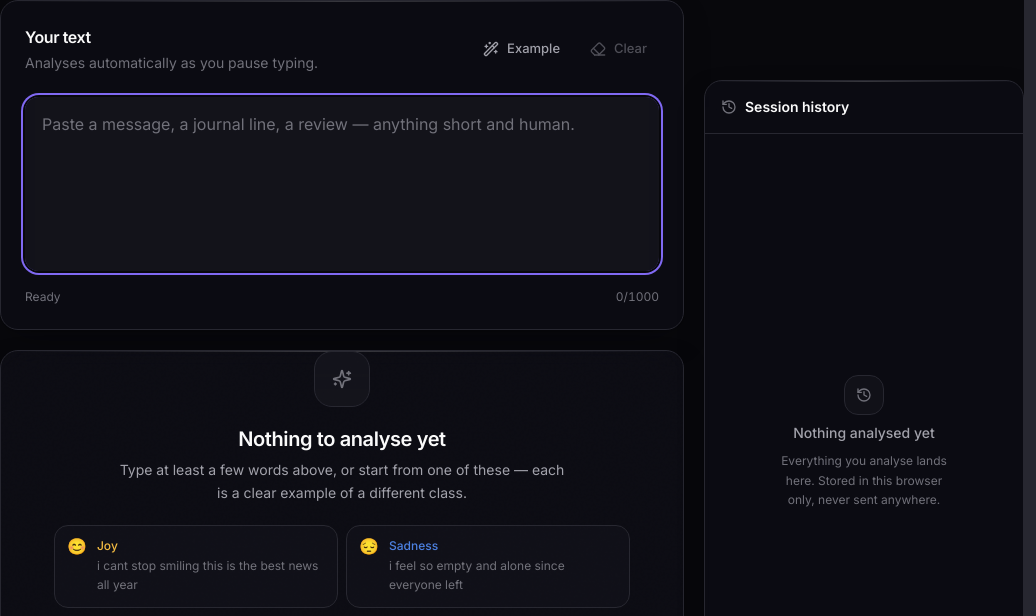
Analyzer › analyses after the debounce and shows the dominant emotion
In the text box labelled "Your text": x=342, y=184 [25,97,659,271], type "i feel wonderful today"
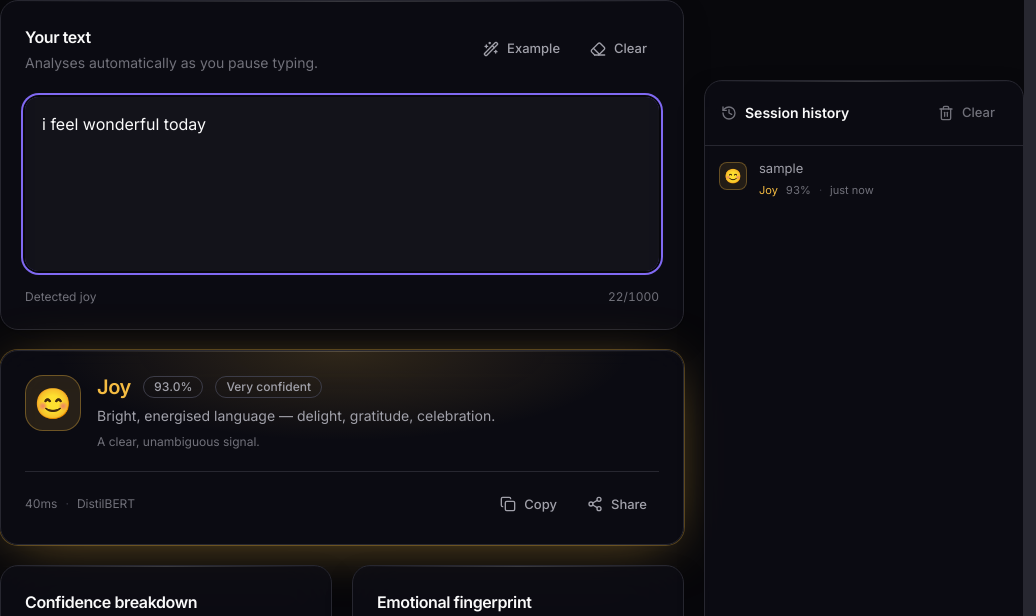
Expected: the heading "Joy" is shown, [97,375,131,399]
